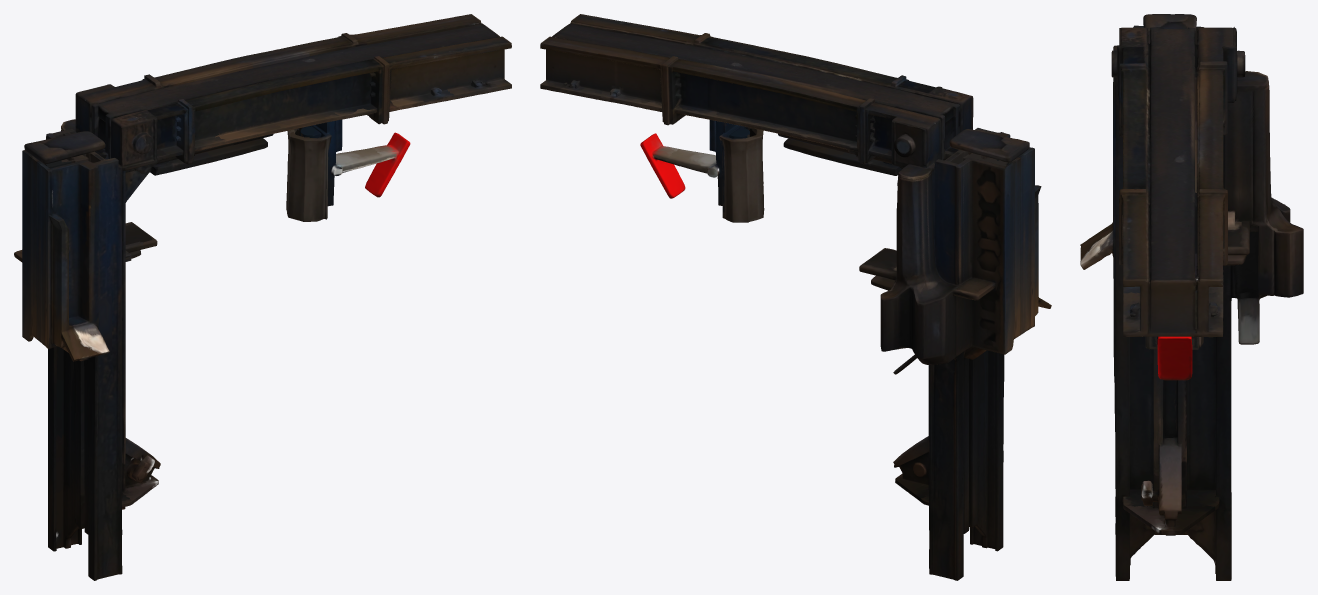
File: construction-14.glb
3 views of the same model, side by side, from view 1: azimuth 30°, elevation 25°; view 2: azimuth 150°, elevation 25°; view 3: azimuth 270°, elevation 25° (orthographic). The views are drawn at different scales.
Size of the model in its own units: 1.32 by 1.24 by 0.4478.
Materials: 1 (1 with a texture image).
